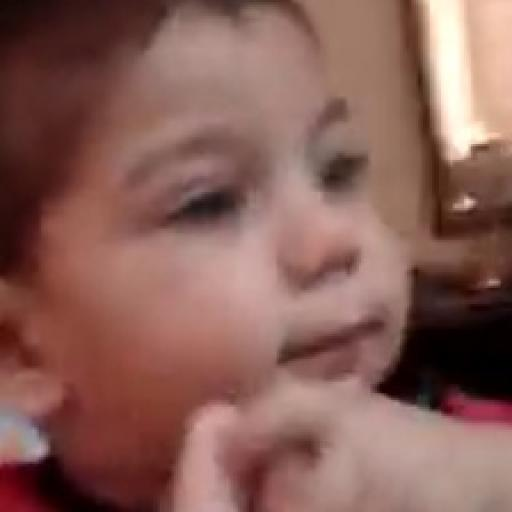Autism: (54, 27, 491, 427)
